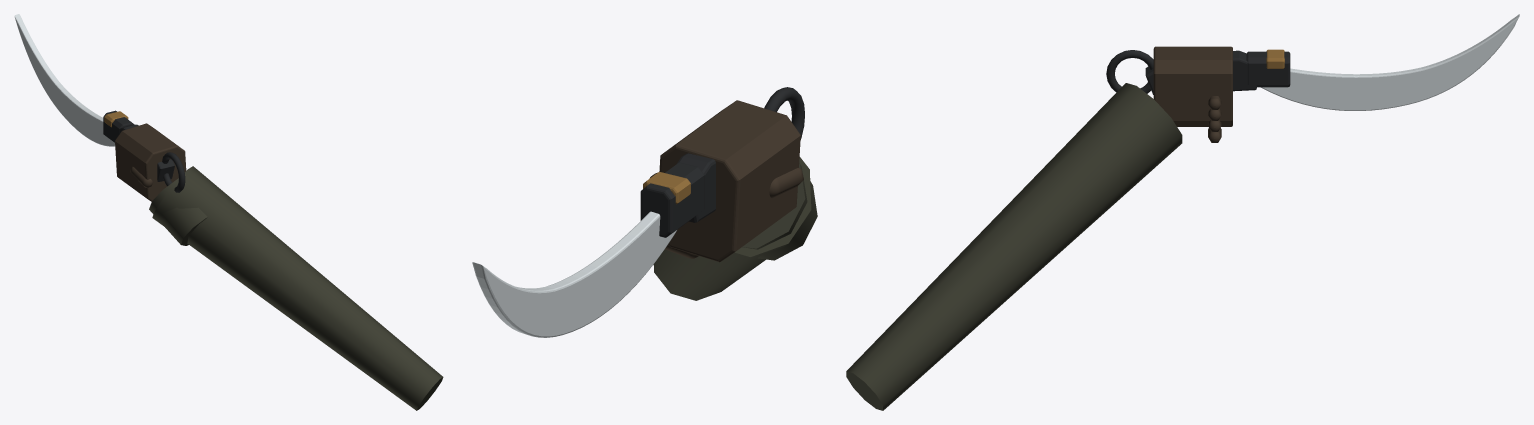
Rendered from knife.glb.
3 views of the same model, side by side, from view 1: azimuth 30°, elevation 25°; view 2: azimuth 150°, elevation 25°; view 3: azimuth 270°, elevation 25° (orthographic). The views are drawn at different scales.
Parts seen in each view (by area): view 1: knife; view 2: knife; view 3: knife.
Boxes of the visible parts, bbox=[...] form: knife: bbox=[14, 14, 443, 410]; knife: bbox=[472, 87, 817, 337]; knife: bbox=[846, 14, 1519, 410].
Size of the model in its own units: 0.3798 by 0.4698 by 0.9424.
